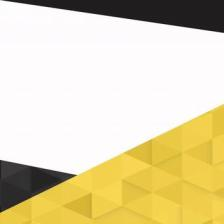yellow: (1, 106, 224, 224)
